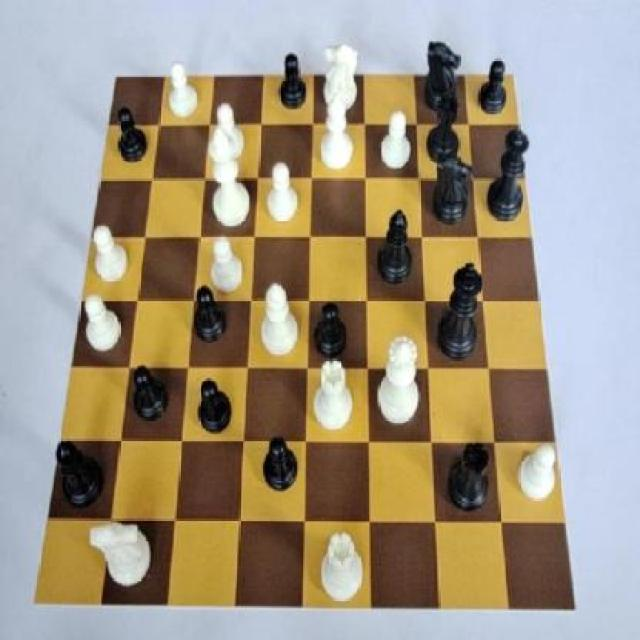bishop: (49, 429, 112, 512), (371, 202, 419, 288)
black-bishop: (432, 252, 491, 368)
black-king: (415, 28, 467, 118), (428, 144, 477, 230)
black-knight: (124, 360, 178, 432), (257, 424, 304, 502), (192, 368, 240, 440), (310, 294, 354, 368), (109, 97, 150, 172), (268, 50, 312, 119), (474, 49, 515, 122), (190, 275, 228, 347)
black-pawn: (484, 120, 534, 232)
black-queen: (445, 431, 497, 515), (424, 82, 464, 168)
black-rook: (257, 274, 300, 364), (317, 84, 358, 178)
white-bishop: (200, 120, 252, 232)
white-king: (85, 514, 157, 594), (317, 36, 361, 120)
white-knight: (510, 429, 562, 506), (372, 106, 420, 180), (78, 288, 124, 354), (205, 229, 247, 300), (208, 96, 253, 162), (265, 150, 303, 228), (162, 50, 202, 124), (91, 218, 132, 290)
white-pawn: (372, 331, 428, 434)
white-queen: (309, 351, 360, 438), (317, 524, 368, 608)
